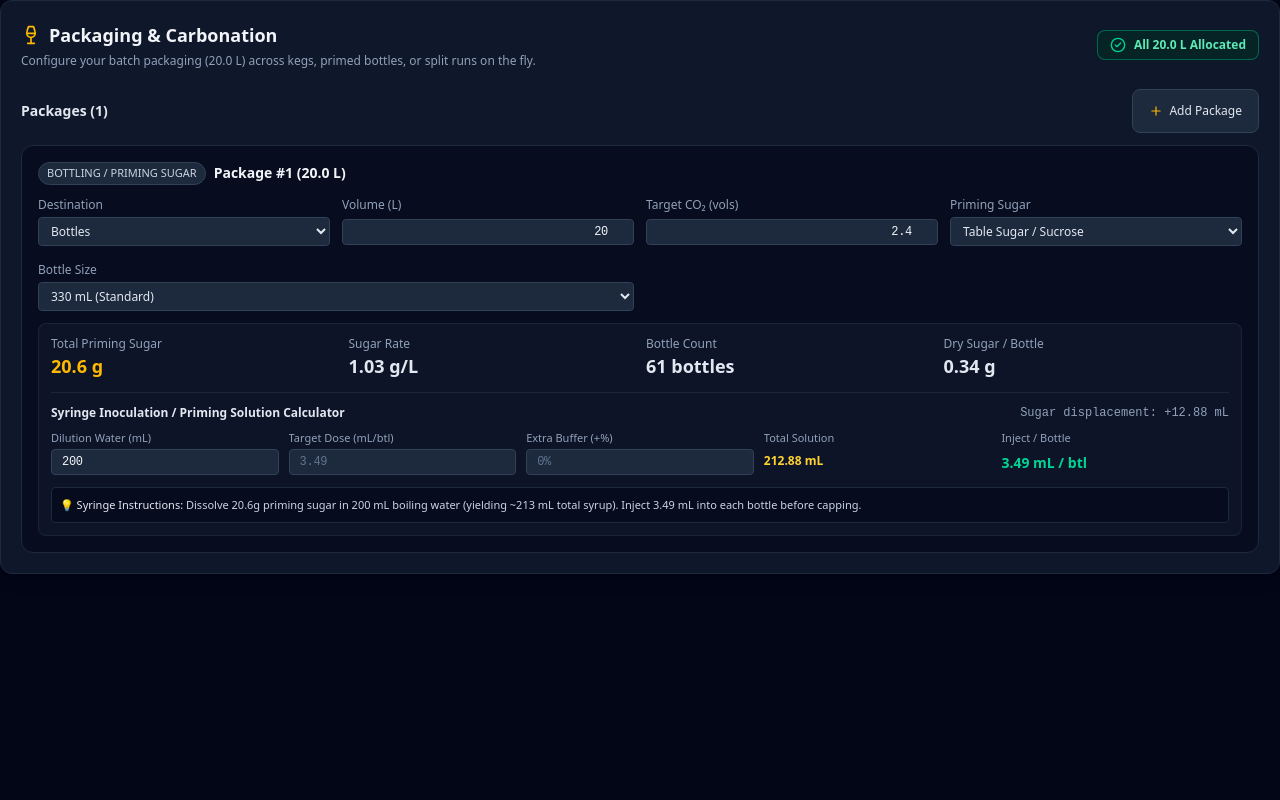
it: M17_P1 AC-7, AC-8 & AC-17: SplitPackagingPanel › calculates priming solution dilution and syringe dose per bottle live (AC-17)
This screenshot has width=1280, height=800.
Expected: the element with test id "priming-solution-panel-0" is shown, [51,392,1229,523]
Expected: the text with test id "total-solution-ml-0" shows "mL", [802,452,823,469]
// Change water volume to 300 mL
Replace the text in the number field named "dilution water volume" with "300" at x=165, y=462, box [51,449,279,475]
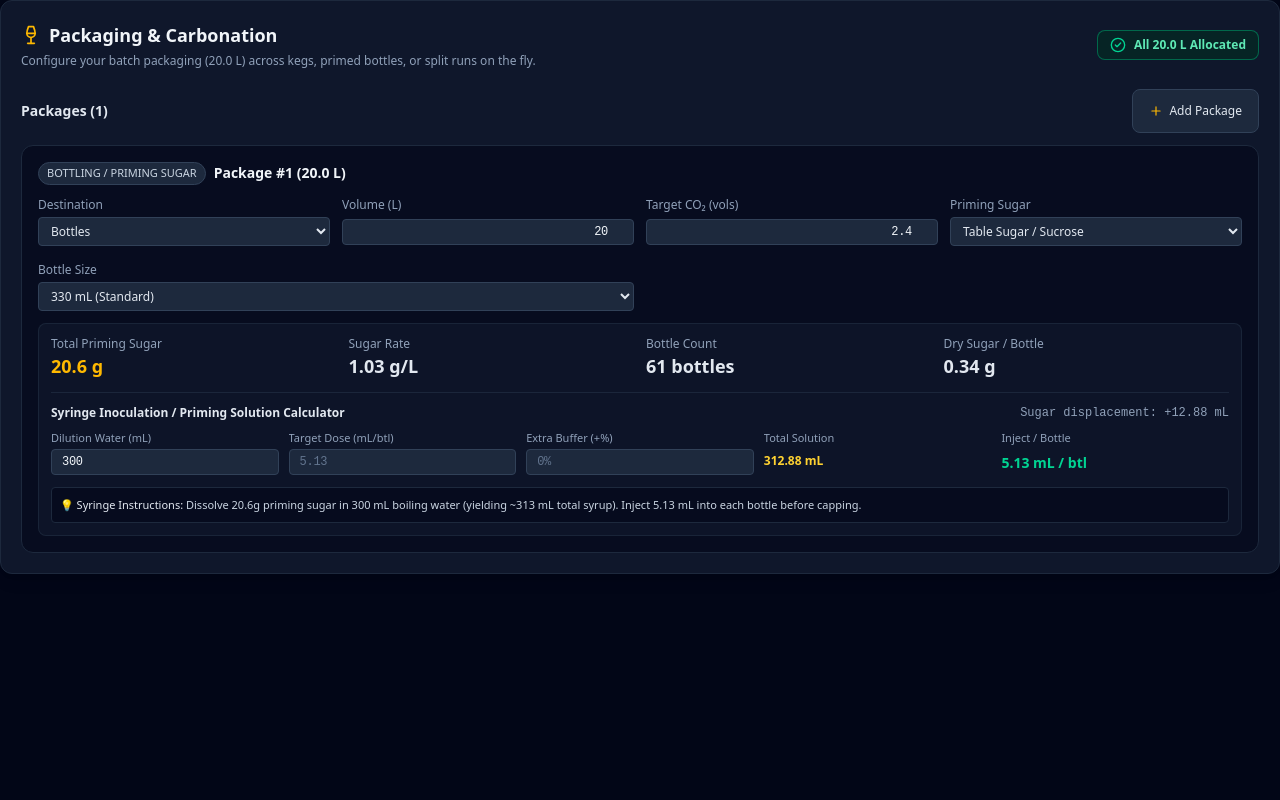
// Target syringe dose test
Type "5" into the number field named "target syringe dose" at x=402, y=462, box [289,449,516,475]
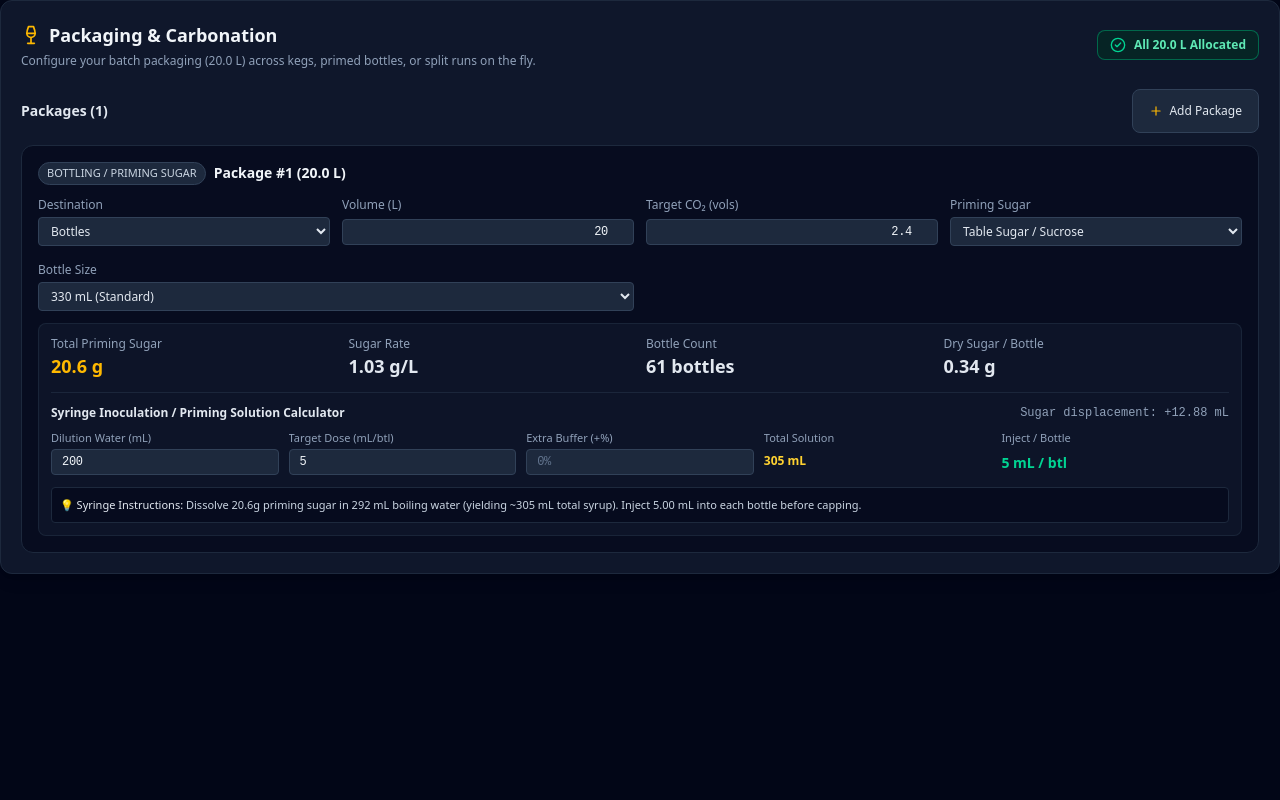
Now the text with test id "syringe-dose-ml-0" reads "5 mL / btl", box [1001,453,1067,472]
